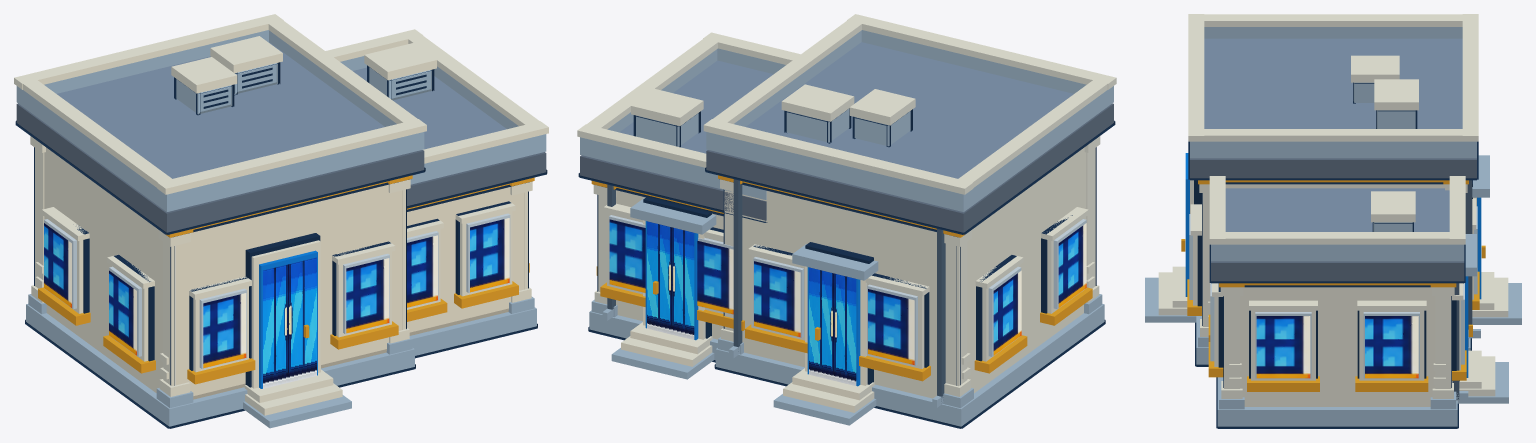
3 views of the same model, side by side, from view 1: azimuth 30°, elevation 25°; view 2: azimuth 150°, elevation 25°; view 3: azimuth 270°, elevation 25° (orthographic). The views are drawn at different scales.
Visible parts, largest first — view 1: H10 阶梯屋顶屋; view 2: H10 阶梯屋顶屋; view 3: H10 阶梯屋顶屋.
Boxes of the visible parts, x1,y1,x2,y2 form: H10 阶梯屋顶屋: [14, 14, 548, 428]; H10 阶梯屋顶屋: [577, 14, 1116, 428]; H10 阶梯屋顶屋: [1145, 14, 1521, 428].
Bounding box in the file's own units: 7.3 × 4.55 × 6.31.
Materials: 2 (1 with a texture image).
